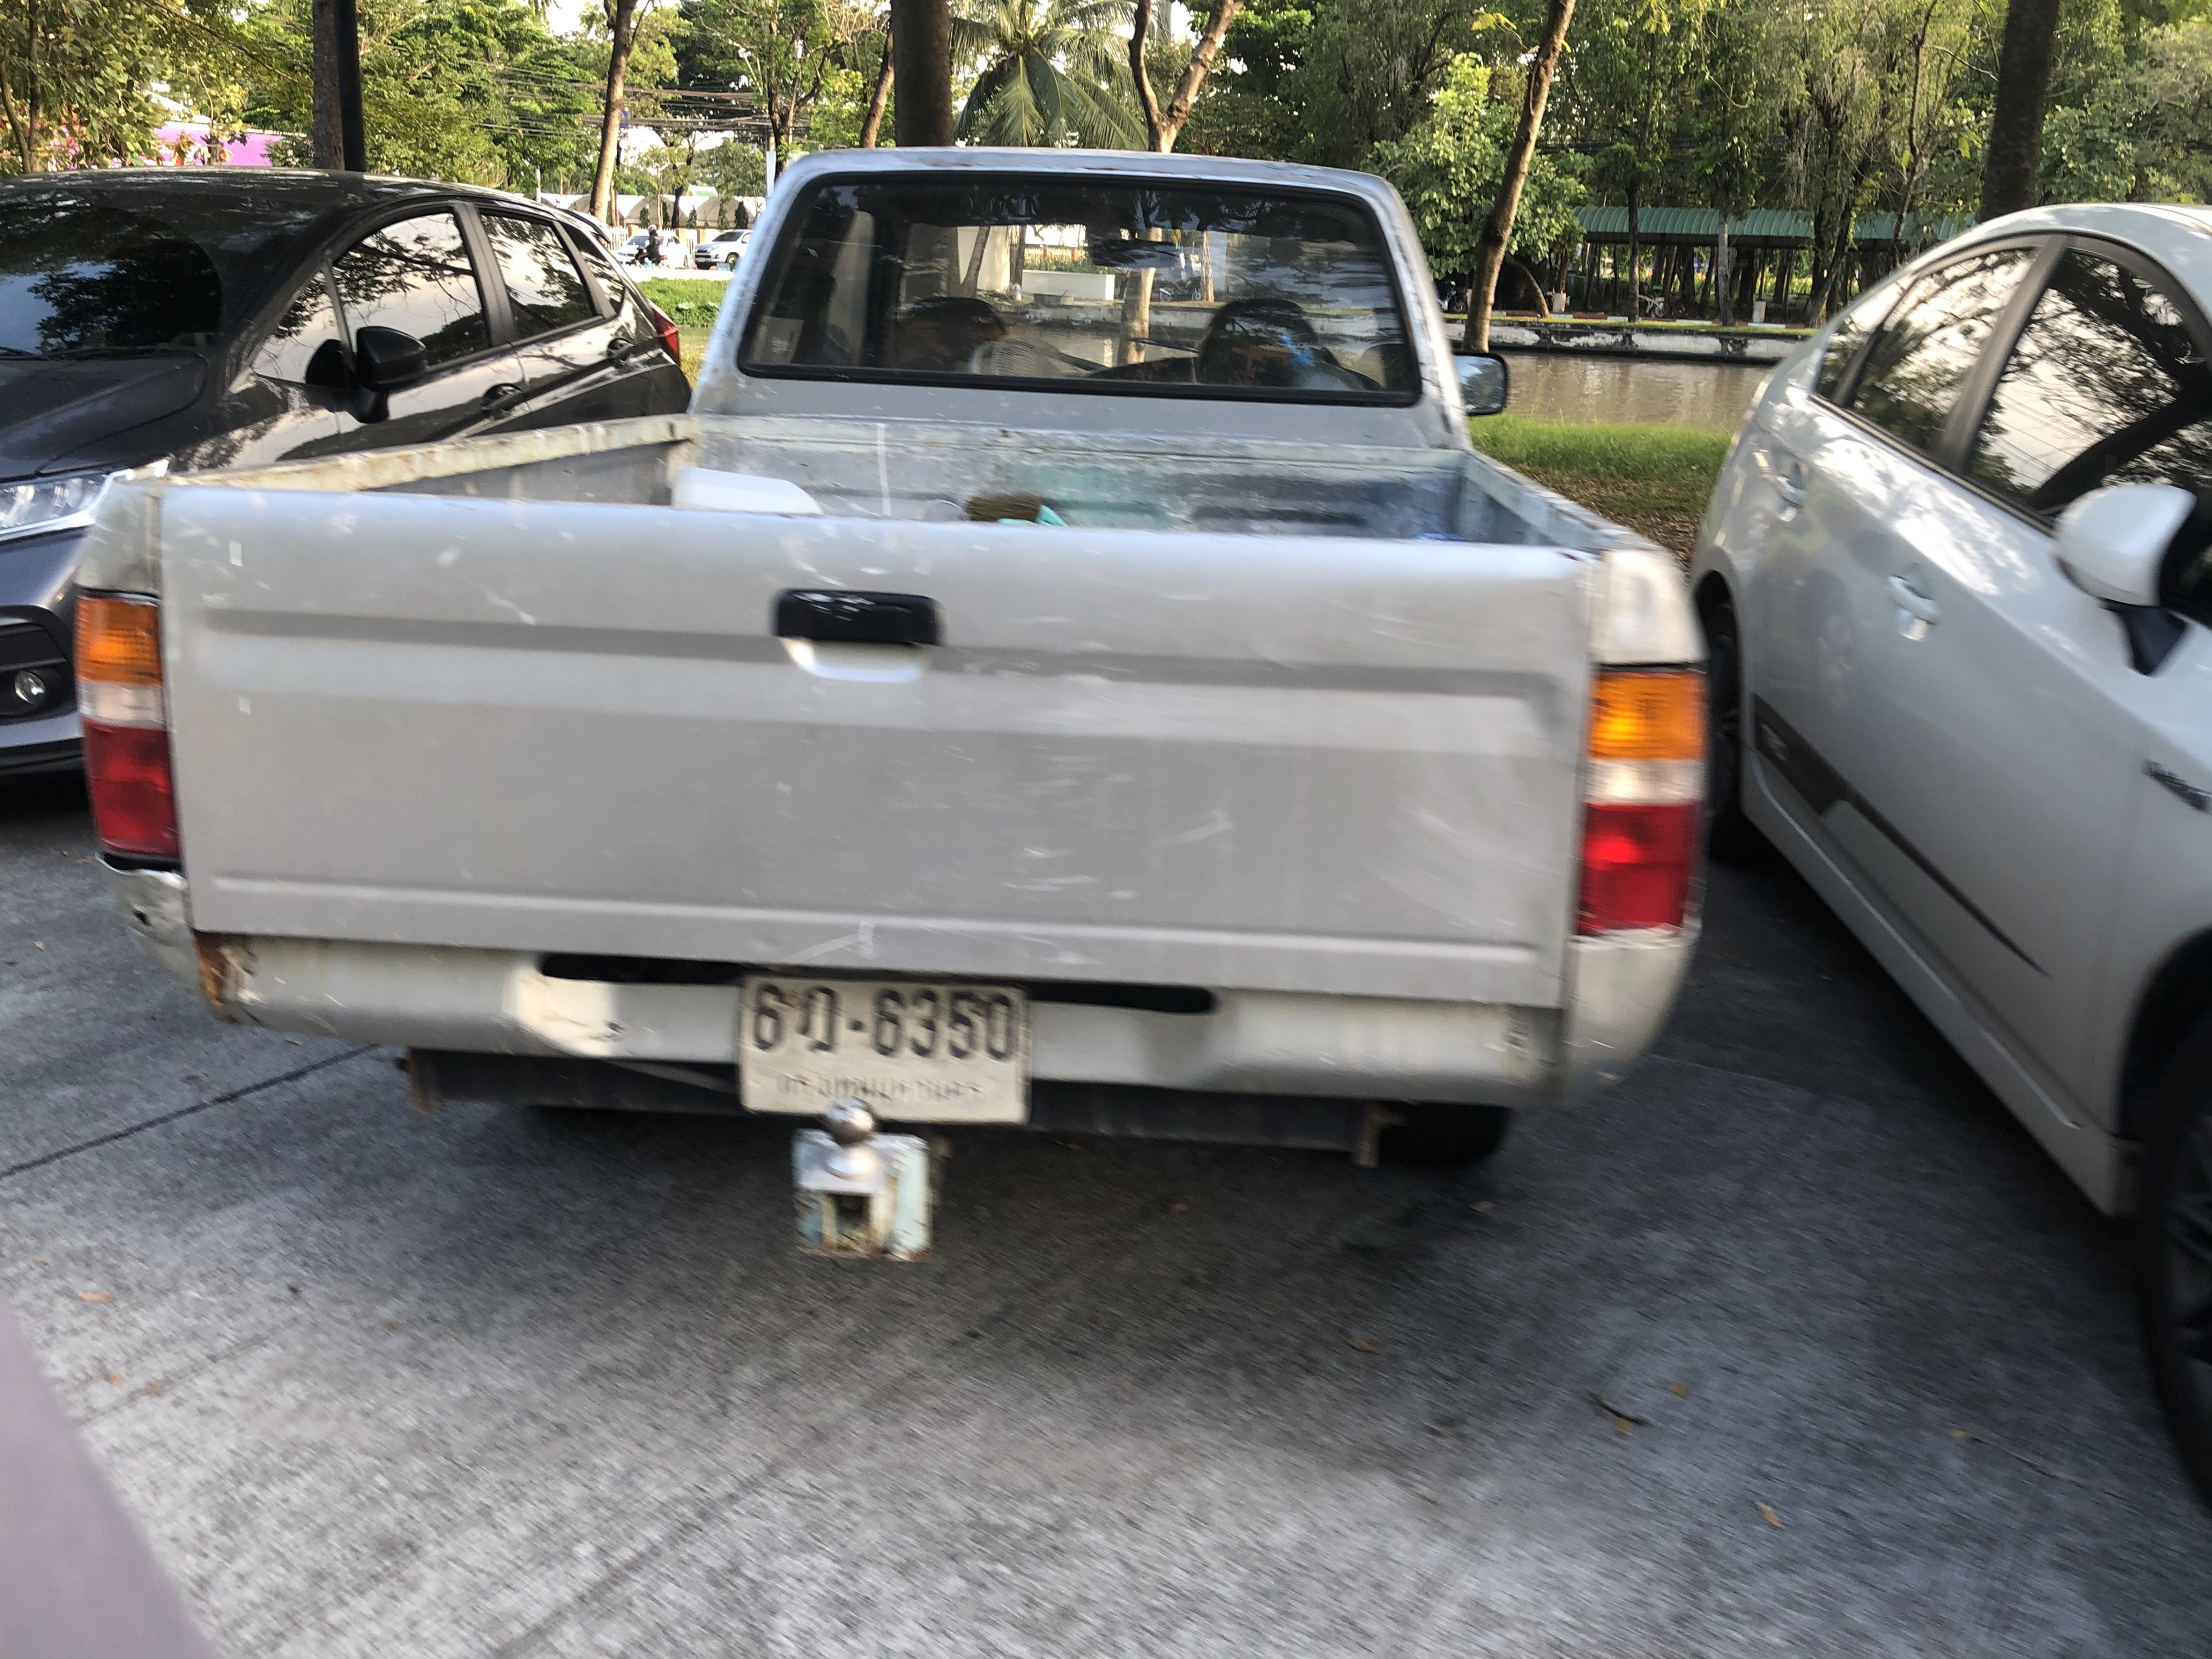in: (745, 979, 1026, 1115)
out: (725, 967, 1045, 1133)
